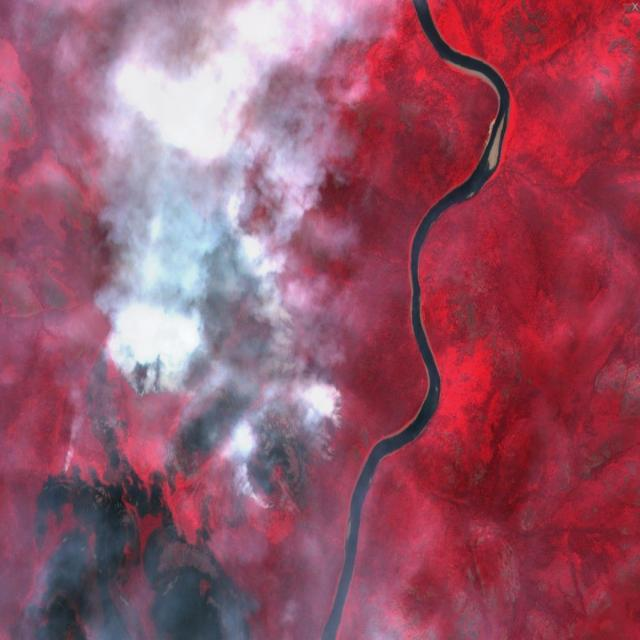fire: (108, 162, 350, 464)
